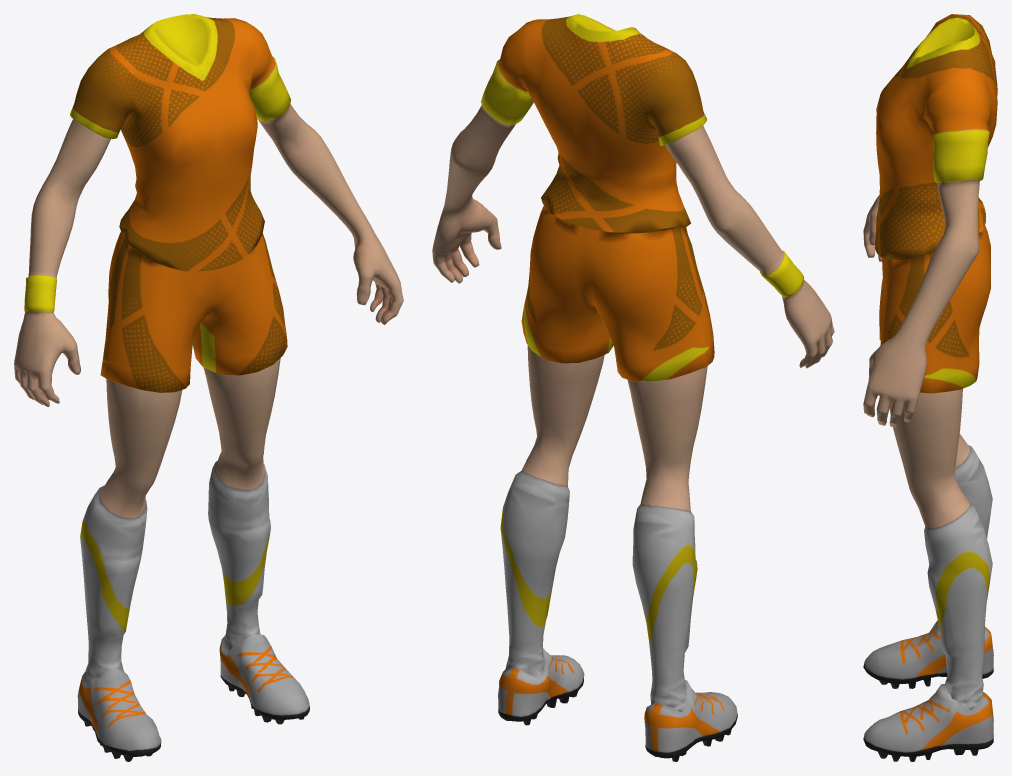
Rendered from jogador_corpo.obj.
3 views of the same model, side by side, from view 1: azimuth 30°, elevation 25°; view 2: azimuth 150°, elevation 25°; view 3: azimuth 270°, elevation 25° (orthographic). The views are drawn at different scales.
Parts seen in each view (by area): view 1: 0002_F_MED_Soccer_01; view 2: 0002_F_MED_Soccer_01; view 3: 0002_F_MED_Soccer_01.
Boxes of the visible parts, <box> form: 0002_F_MED_Soccer_01: <box>14,14,403,761</box>; 0002_F_MED_Soccer_01: <box>432,14,834,761</box>; 0002_F_MED_Soccer_01: <box>863,14,997,761</box>.
Bounding box in the file's own units: 0.8091 × 1.43 × 0.2543.
1 material, 1 textured.
